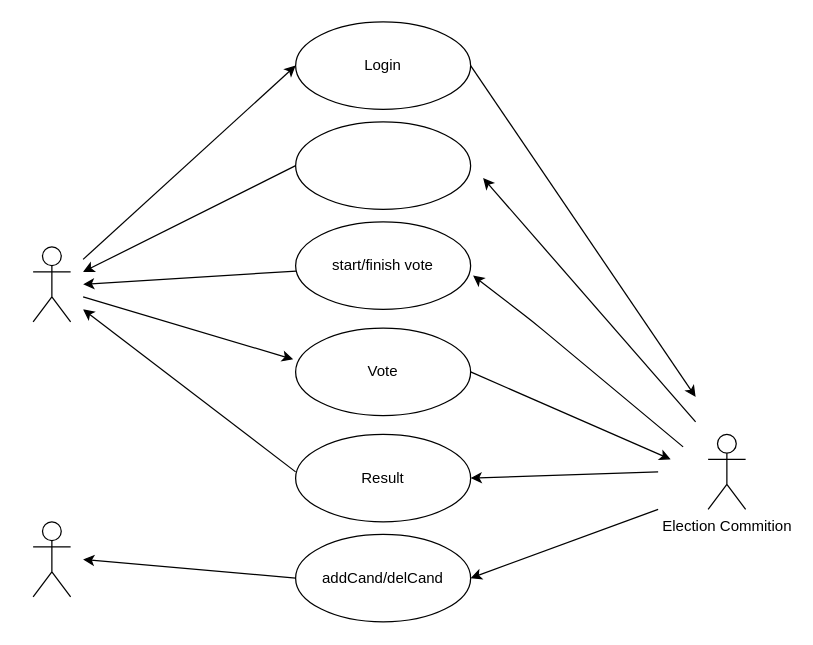
Image size: 813x645. Some labels were removed from this diagram. Each missing label, with the centre of its shape:
"Cadidate" belongs at (51,559).
"Login OK" belongs at (382,165).
"Voter" belongs at (51,284).
